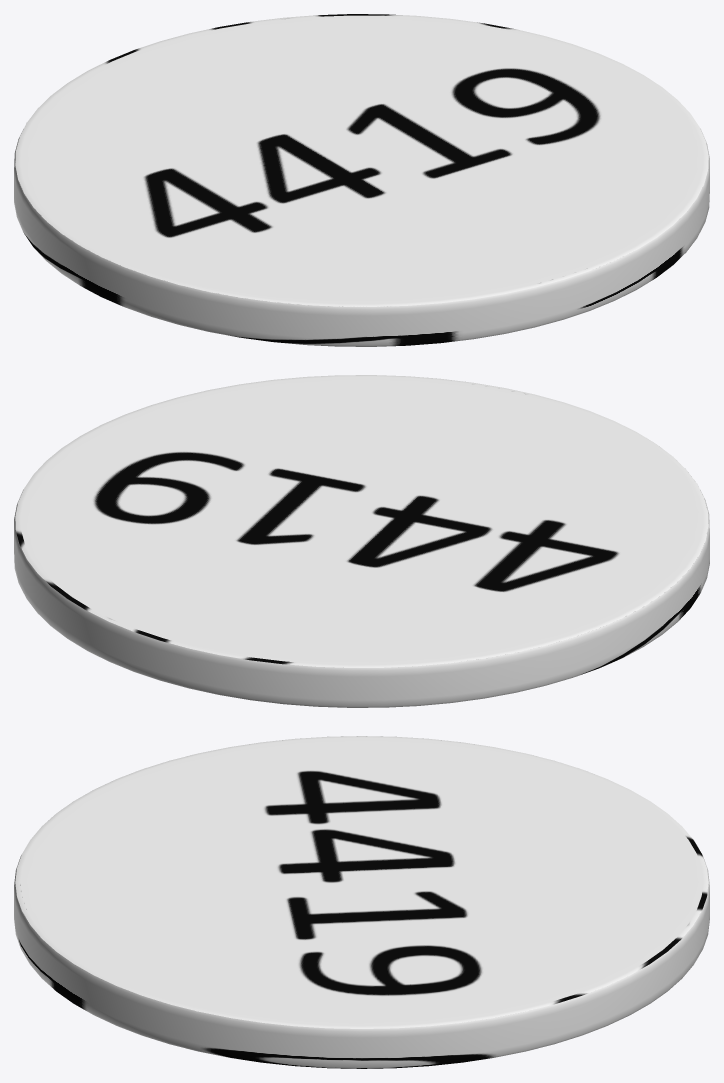
Rendered from coin.fbx.
3 views of the same model, one above another, from view 1: azimuth 30°, elevation 25°; view 2: azimuth 150°, elevation 25°; view 3: azimuth 270°, elevation 25° (orthographic).
Parts seen in each view (by area): view 1: Cylinder; view 2: Cylinder; view 3: Cylinder.
Part boxes in pixels (<box>): Cylinder: <box>14,14,709,346</box>; Cylinder: <box>14,375,709,707</box>; Cylinder: <box>14,736,709,1068</box>.
Size of the model in its own units: 199 by 13 by 199.
Materials: 1 (1 with a texture image).
